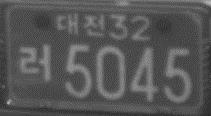0: (95, 45, 127, 100)
2: (130, 14, 151, 41)
3: (108, 13, 128, 40)
4: (129, 47, 158, 101)
5: (162, 48, 193, 103), (63, 43, 93, 98)
대전_O: (55, 12, 105, 37)
러: (18, 44, 51, 79)
